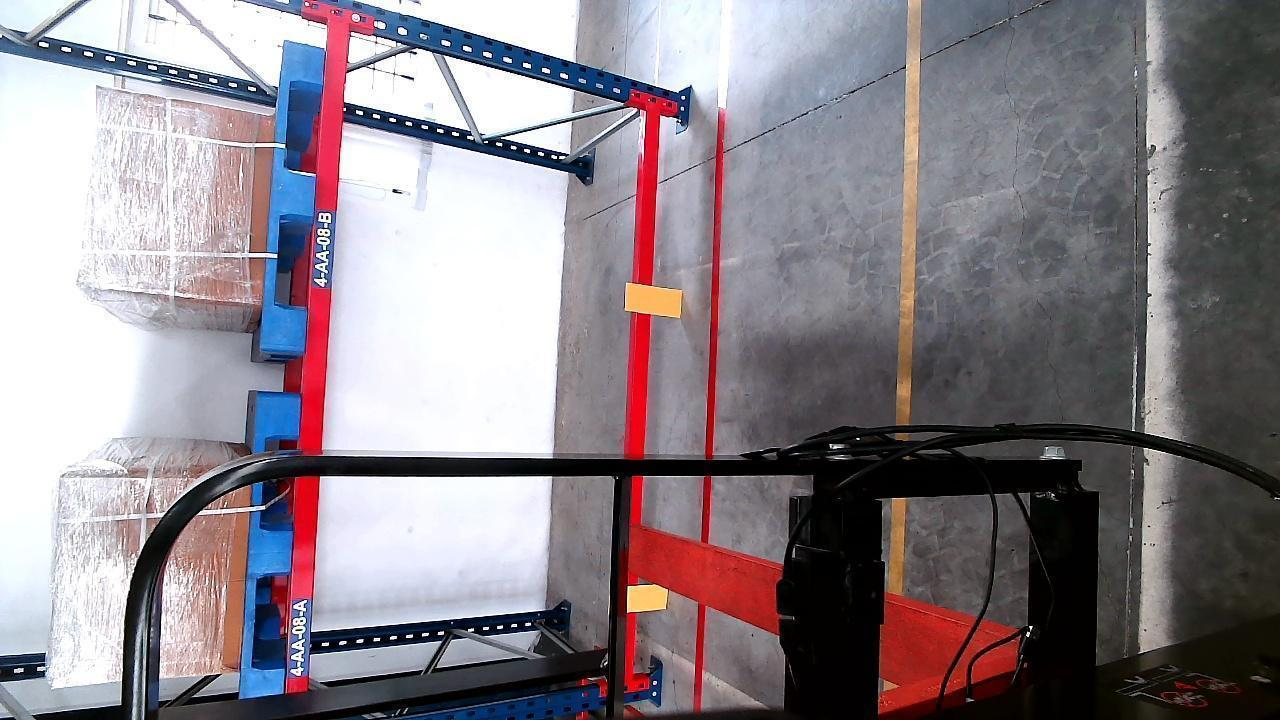red_line: (694, 82, 729, 709)
yellow_line: (891, 0, 924, 596)
